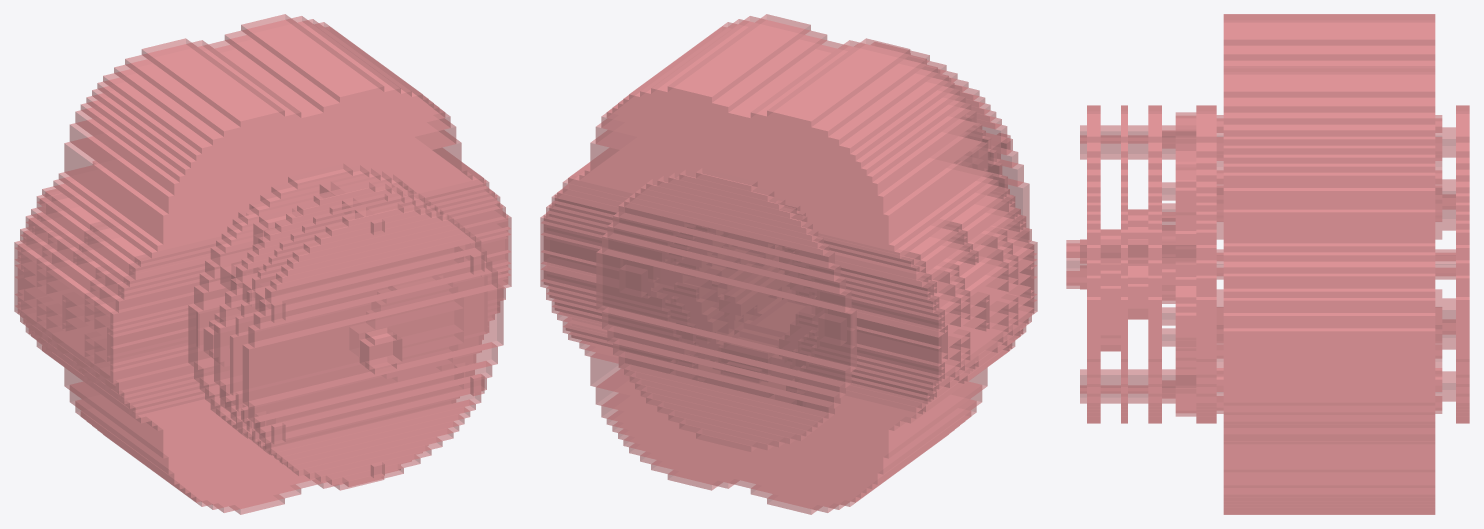
3 renders of one model, left to right at view 1: azimuth 30°, elevation 25°; view 2: azimuth 150°, elevation 25°; view 3: azimuth 270°, elevation 25°, orthographic. The views are drawn at different scales.
Visible parts, largest first — view 1: cell_union_678, cell_union_422, cell_union_403, cell_union_412, cell_union_408, cell_union_415, cell_union_397, cell_union_636, cell_union_398, cell_union_406, cell_union_401, cell_union_668 (+124 smaller); view 2: cell_union_25, cell_union_422, cell_union_412, cell_union_403, cell_union_408, cell_union_415, cell_union_401, cell_union_397, cell_union_398, cell_union_406, cell_union_414, cell_union_413 (+111 smaller); view 3: cell_union_422, cell_union_403, cell_union_415, cell_union_408, cell_union_398, cell_union_401, cell_union_412, cell_union_428, cell_union_402, cell_union_413, cell_union_397, cell_union_406 (+120 smaller).
Part boxes in pixels (left/top/right/bottom): cell_union_678: left=242, top=283, right=503, bottom=407; cell_union_422: left=64, top=130, right=461, bottom=244; cell_union_403: left=114, top=19, right=411, bottom=145; cell_union_412: left=69, top=118, right=456, bottom=213; cell_union_408: left=224, top=16, right=400, bottom=112; cell_union_415: left=125, top=40, right=301, bottom=136; cell_union_397: left=103, top=22, right=422, bottom=153; cell_union_636: left=230, top=275, right=487, bottom=395; cell_union_398: left=58, top=149, right=467, bottom=251; cell_union_406: left=75, top=107, right=450, bottom=195; cell_union_401: left=69, top=382, right=455, bottom=474; cell_union_668: left=248, top=267, right=497, bottom=347; cell_union_25: left=596, top=248, right=856, bottom=372; cell_union_422: left=590, top=130, right=987, bottom=244; cell_union_412: left=595, top=118, right=982, bottom=213; cell_union_403: left=640, top=19, right=937, bottom=145; cell_union_408: left=651, top=16, right=827, bottom=112; cell_union_415: left=750, top=40, right=926, bottom=136; cell_union_401: left=595, top=369, right=982, bottom=474; cell_union_397: left=629, top=22, right=948, bottom=153; cell_union_398: left=584, top=149, right=993, bottom=251; cell_union_406: left=601, top=107, right=976, bottom=195; cell_union_414: left=601, top=393, right=976, bottom=484; cell_union_413: left=590, top=353, right=987, bottom=458; cell_union_422: left=1223, top=188, right=1435, bottom=243; cell_union_403: left=1223, top=14, right=1435, bottom=124; cell_union_415: left=1223, top=14, right=1435, bottom=60; cell_union_408: left=1223, top=66, right=1435, bottom=112; cell_union_398: left=1223, top=210, right=1435, bottom=252; cell_union_401: left=1223, top=444, right=1435, bottom=487; cell_union_412: left=1223, top=172, right=1435, bottom=209; cell_union_428: left=1223, top=16, right=1435, bottom=45; cell_union_402: left=1223, top=68, right=1435, bottom=97; cell_union_413: left=1223, top=441, right=1435, bottom=472; cell_union_397: left=1223, top=61, right=1435, bottom=136; cell_union_406: left=1223, top=164, right=1435, bottom=187.
Bounding box in the file's own units: 720 × 680 × 590.
